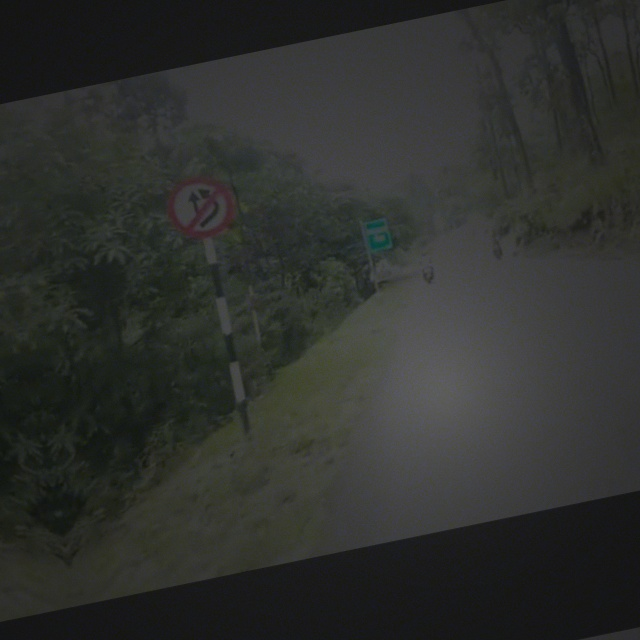Overtaking_Prohibited: (162, 171, 238, 243)
